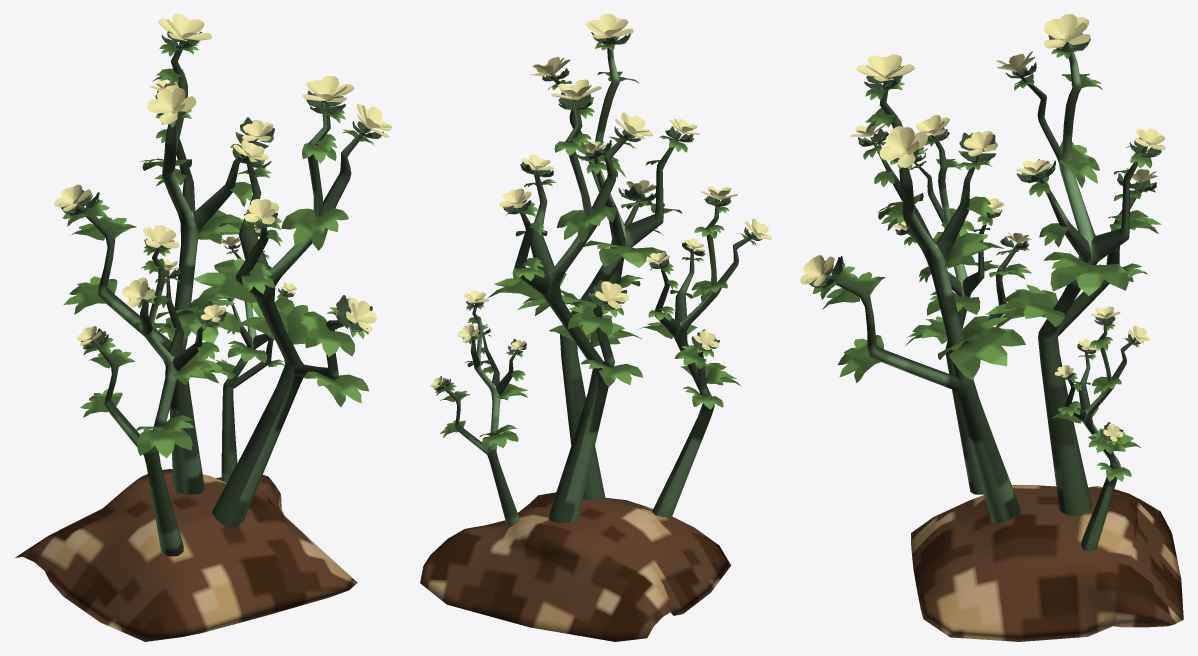
Rendered from Cotton Stage 2 New.fbx.
The picture shows the model from 3 angles, left to right: view 1: azimuth 30°, elevation 25°; view 2: azimuth 150°, elevation 25°; view 3: azimuth 270°, elevation 25°; orthographic projection. The views are drawn at different scales.
Parts seen in each view (by area): view 1: Cotton_Stage2_Combined; view 2: Cotton_Stage2_Combined; view 3: Cotton_Stage2_Combined.
Boxes of the visible parts, <box> form: Cotton_Stage2_Combined: <box>15,14,391,641</box>; Cotton_Stage2_Combined: <box>420,14,771,641</box>; Cotton_Stage2_Combined: <box>800,14,1183,641</box>.
Bounding box in the file's own units: 16.96 × 33.17 × 20.56.
1 material, 1 textured.
